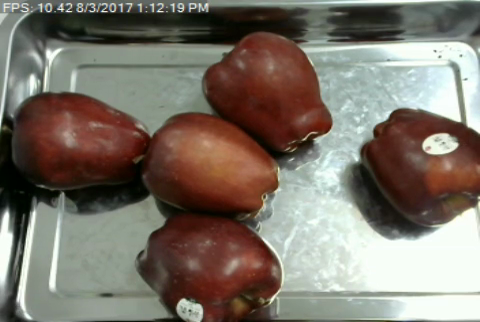Apple: (132, 209, 288, 322), (199, 28, 335, 154), (139, 109, 286, 216), (7, 89, 154, 193), (361, 105, 480, 232)
